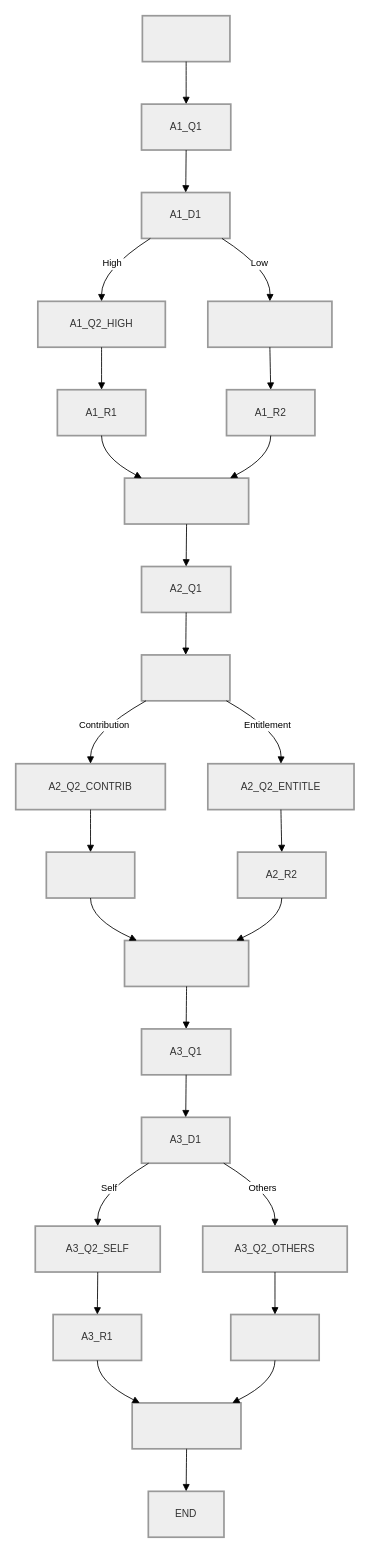
The diagram is 369 pixels wide and 1552 high, and some of its shapes have lost their labels. The shapes that lost their labels are listed below. From the top down, each one's box as (x1, y1, x2, y2) in pixels, then its label:
(141, 14, 230, 62): START
(207, 300, 332, 348): A1_Q2_LOW
(123, 477, 249, 524): BRIDGE_1_2
(140, 654, 230, 701): A2_D1
(45, 851, 135, 898): A2_R1
(123, 939, 249, 987): BRIDGE_2_3
(230, 1313, 320, 1361): A3_R2
(131, 1402, 241, 1449): SUMMARY
